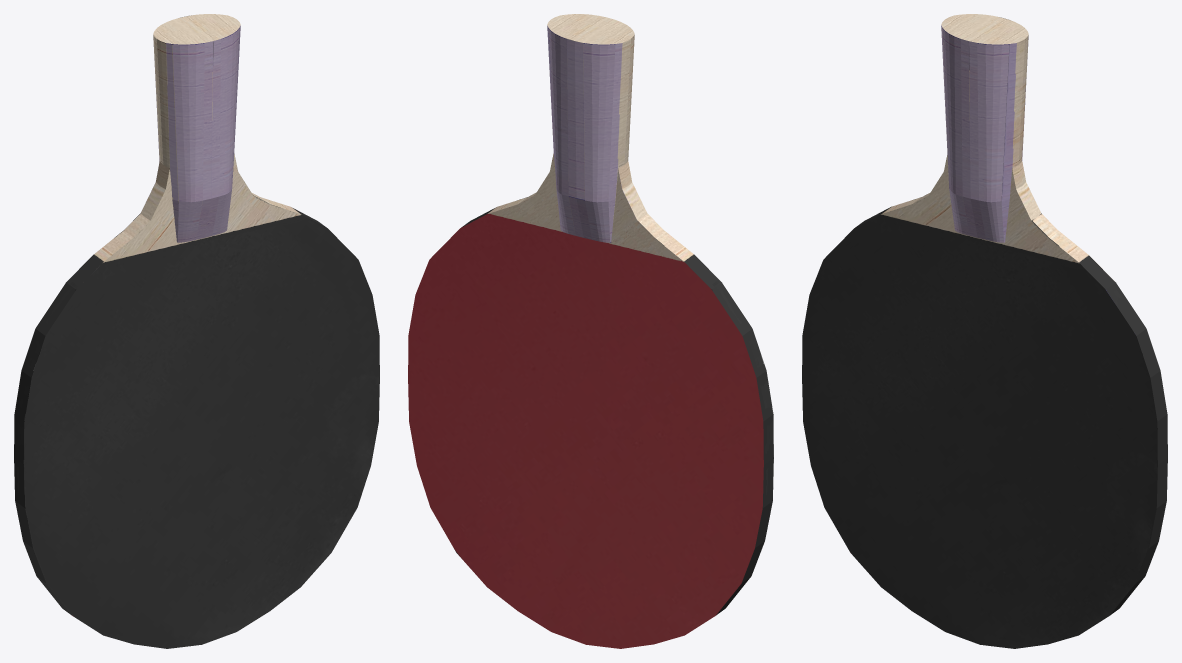
Rendered from newPingPong.gltf.
3 views of the same model, side by side, from view 1: azimuth 30°, elevation 25°; view 2: azimuth 150°, elevation 25°; view 3: azimuth 330°, elevation 25° (orthographic).
Visible parts, largest first — view 1: Paddle; view 2: Paddle; view 3: Paddle.
Boxes of the visible parts, x1,y1,x2,y2 form: Paddle: (14, 14, 379, 648); Paddle: (408, 14, 773, 648); Paddle: (802, 14, 1167, 648).
Bounding box in the file's own units: 3.05 × 5.01 × 0.48.
1 material, 1 textured.
